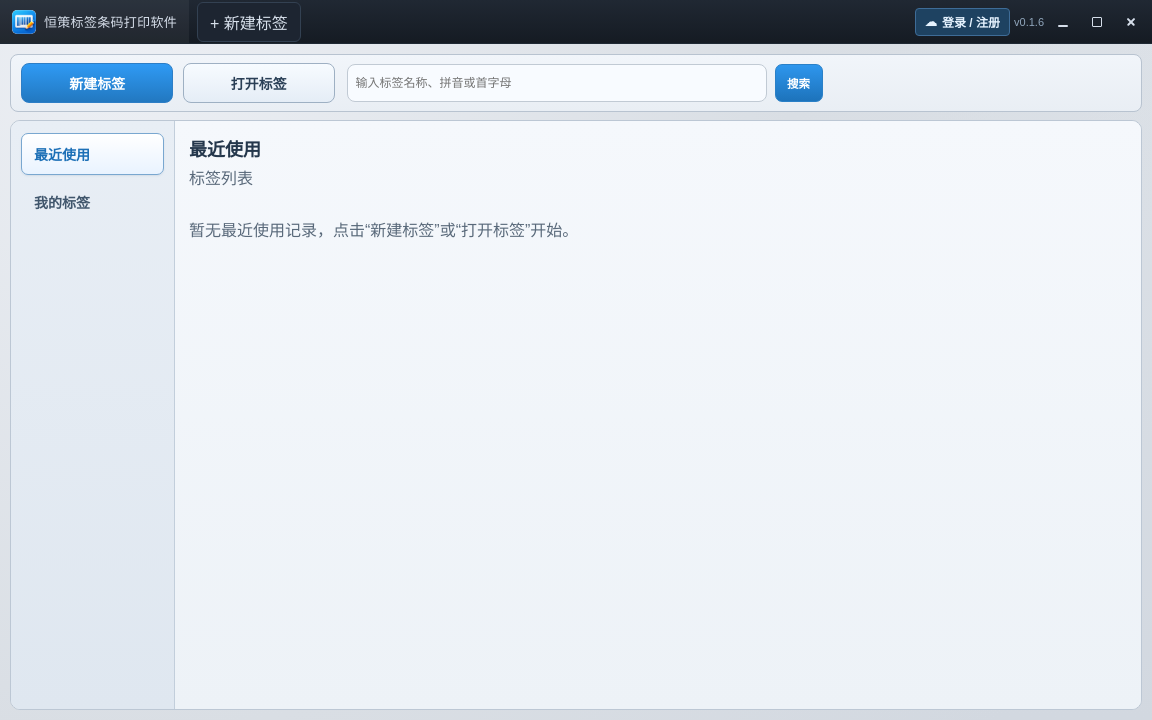
it: App shell › uses last created label size as default for next creation
The image size is (1152, 720).
Click the button with class "new-tab" at {"x": 249, "y": 22}, box [197,2,301,42]
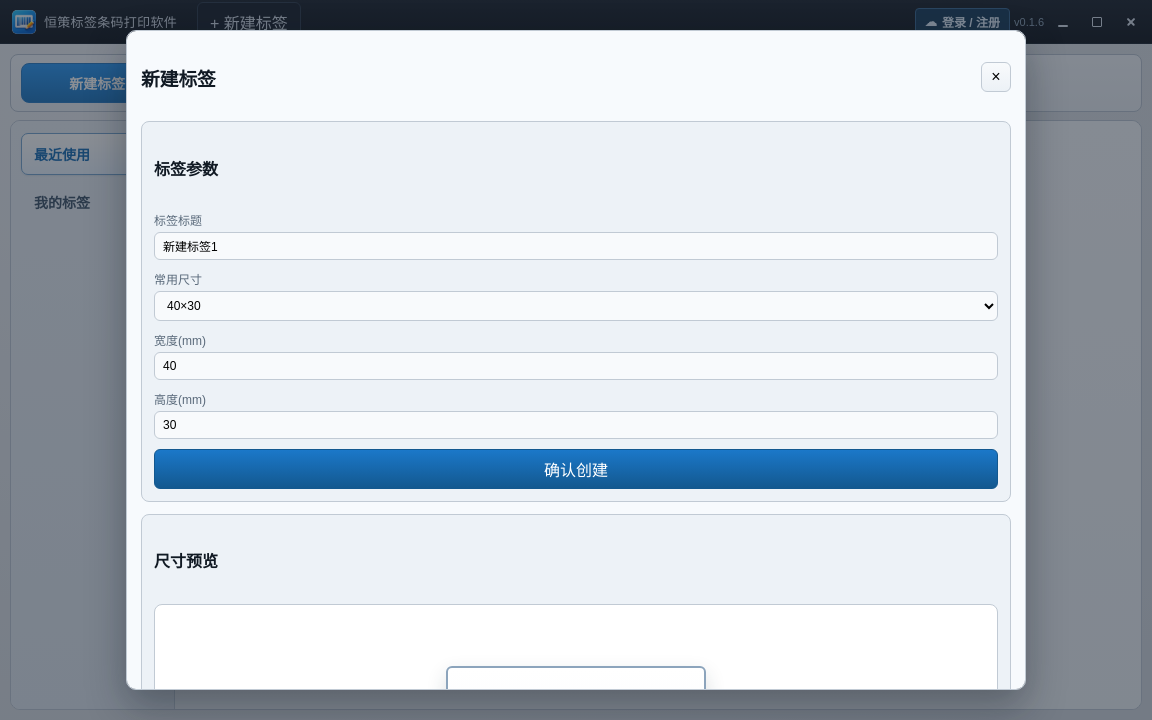
Expected: the element with class "new-label-modal" is shown
Expected: the number of number fields is 2
Replace the text in the number field labelled "宽度(mm)" with "76" at {"x": 576, "y": 366}, box [154,352,998,380]
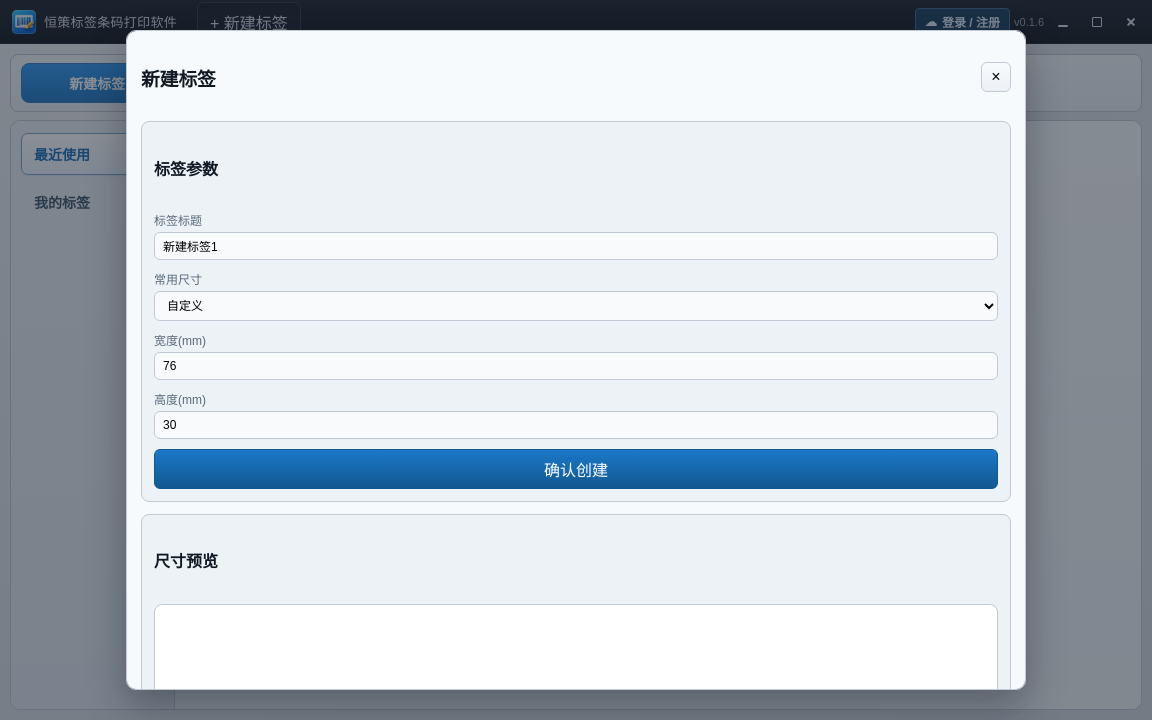
Replace the text in the number field labelled "高度(mm)" with "38" at {"x": 576, "y": 425}, box [154,411,998,439]
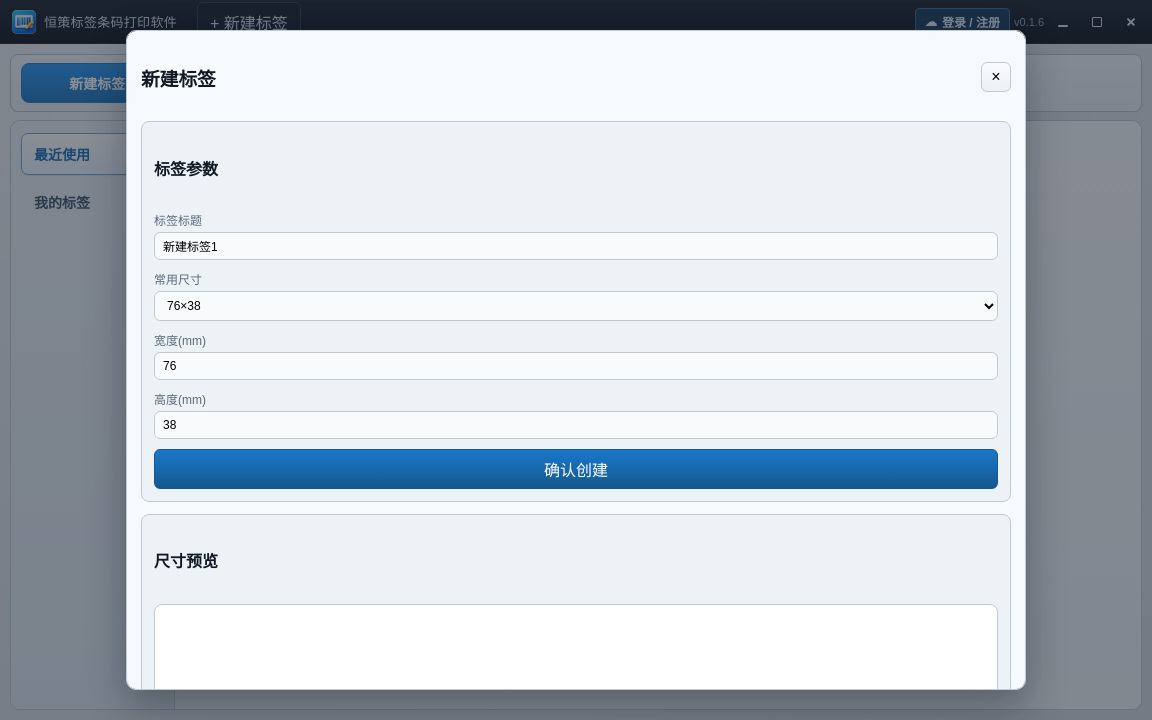
Expected: the button "确认创建" is shown
Click the button "确认创建" at {"x": 576, "y": 469}, box [154,449,998,489]
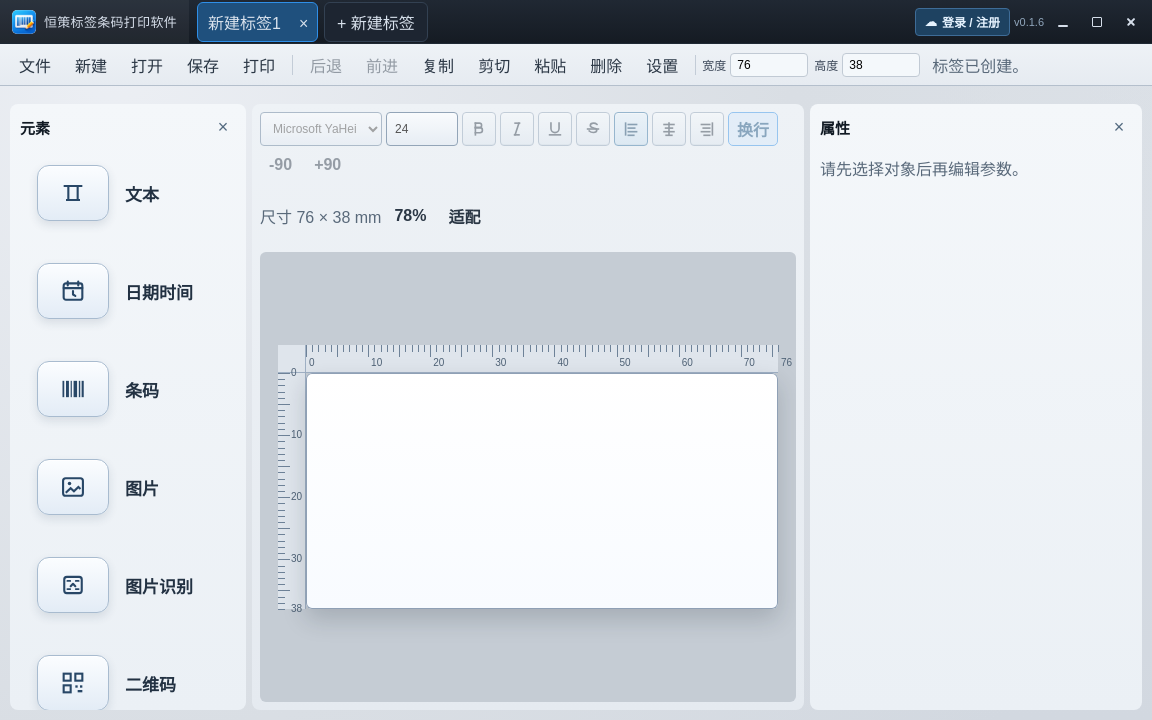
Click the button with class "new-tab" at {"x": 376, "y": 22}, box [324,2,428,42]
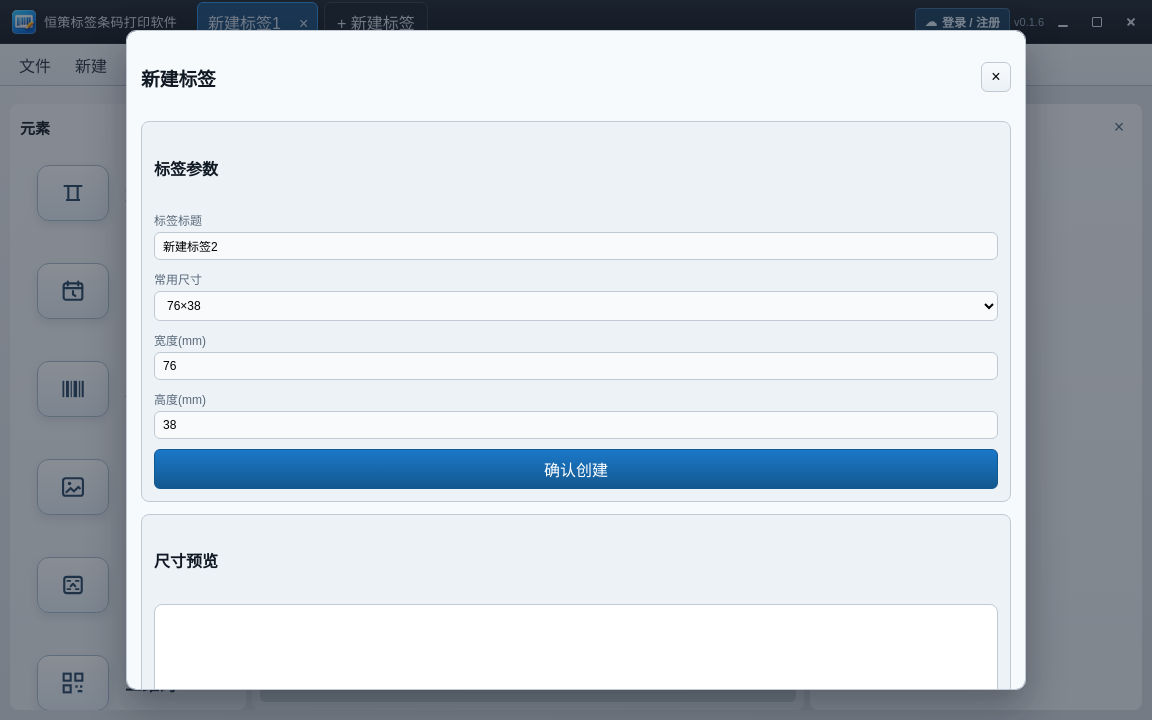
Expected: the element with class "new-label-modal" is shown
Expected: the number field labelled "宽度(mm)" holds "76", [154,352,998,380]
Expected: the number field labelled "高度(mm)" holds "38", [154,411,998,439]
